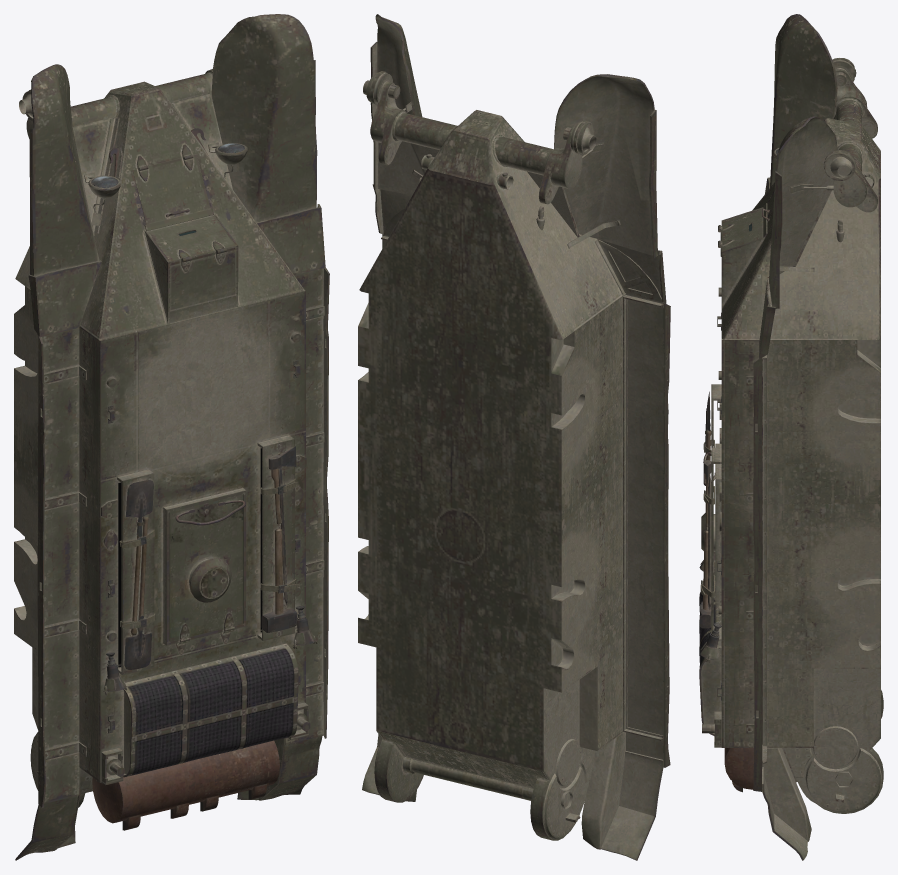
File: Hull.glb
The picture shows the model from 3 angles, left to right: view 1: azimuth 30°, elevation 25°; view 2: azimuth 150°, elevation 25°; view 3: azimuth 270°, elevation 25°; orthographic projection. The views are drawn at different scales.
Parts seen in each view (by area): view 1: set_0_group_0; view 2: set_0_group_0; view 3: set_0_group_0.
Part boxes in pixels (x1,y1,x2,y2): set_0_group_0: (14,14,329,860); set_0_group_0: (358,14,670,860); set_0_group_0: (699,14,883,860).
Bounding box in the file's own units: 2.18 × 5.64 × 1.3.
Materials: 1 (1 with a texture image).
